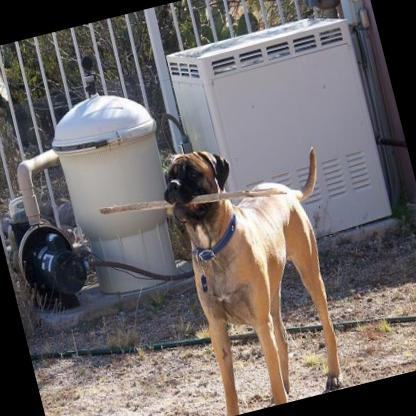bull_mastiff: (154, 118, 372, 416)
